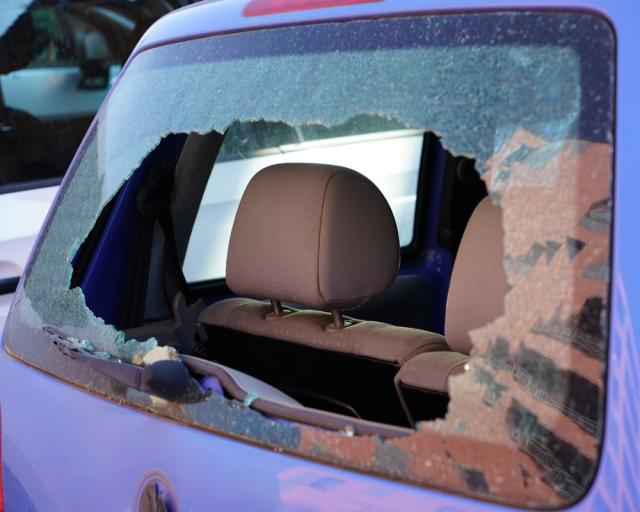glass shatter: (5, 9, 616, 510)
